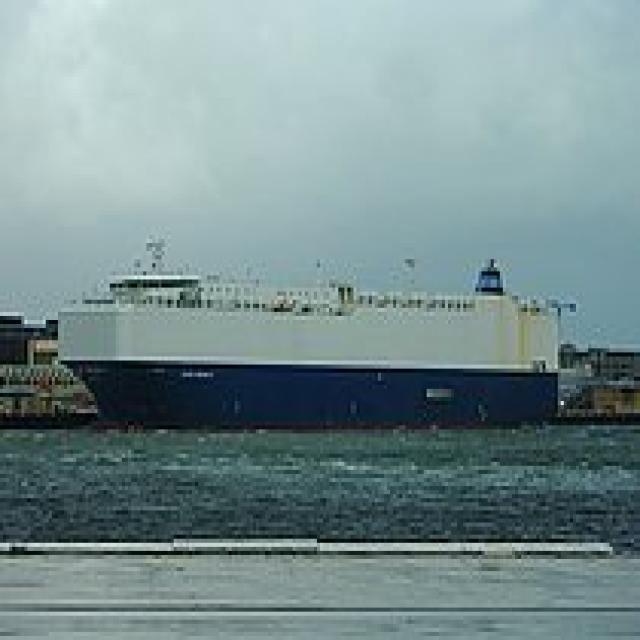Carrier: (52, 247, 561, 429)
